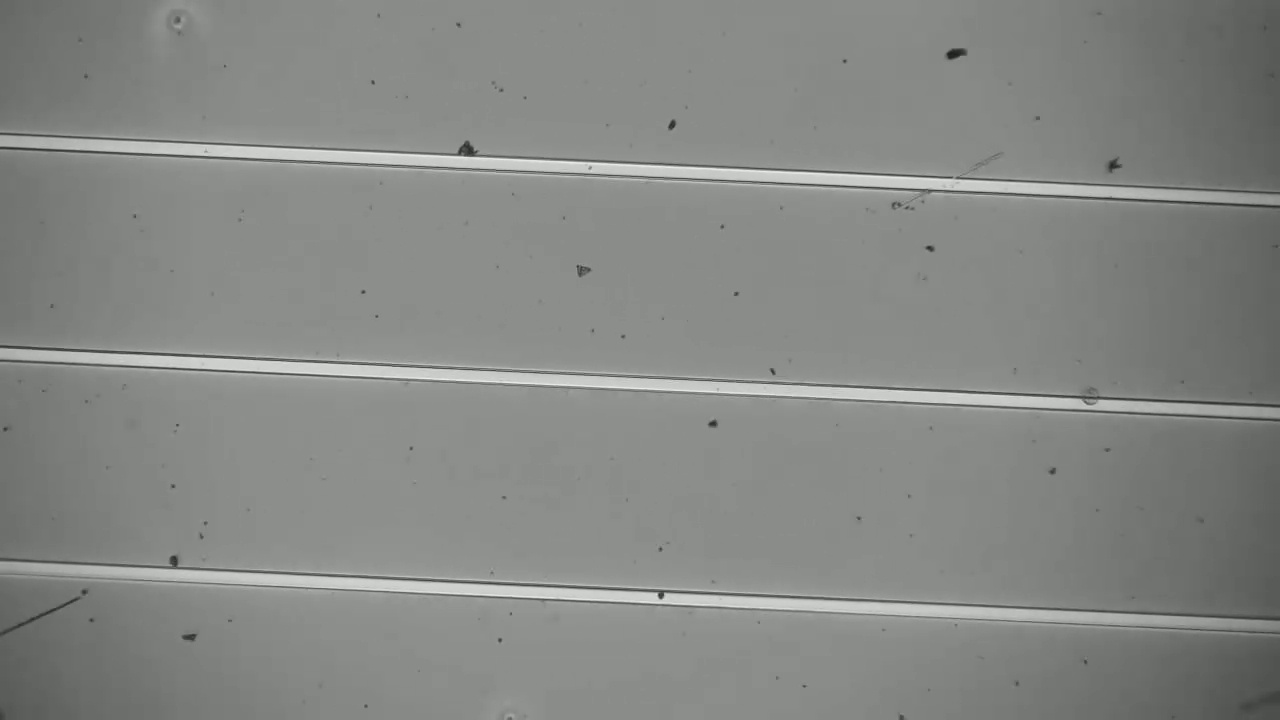scratch: (0, 600, 80, 642)
stains_enbedded: (1069, 385, 1106, 420)
